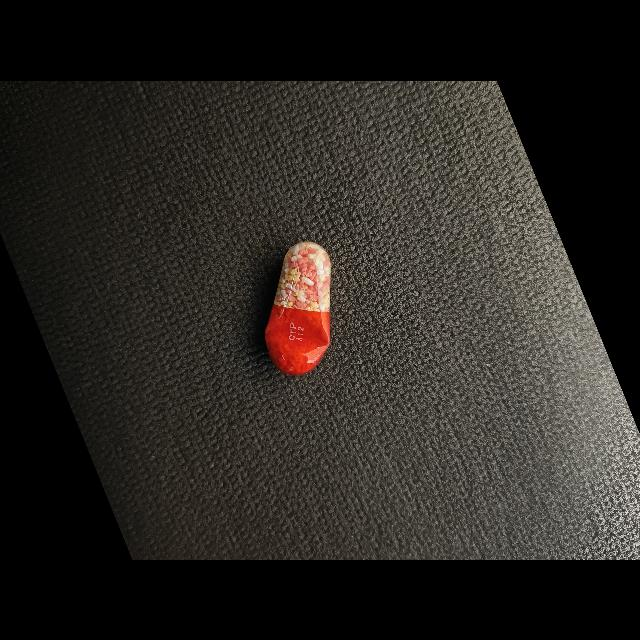Defective Capsule: (265, 241, 331, 375)
